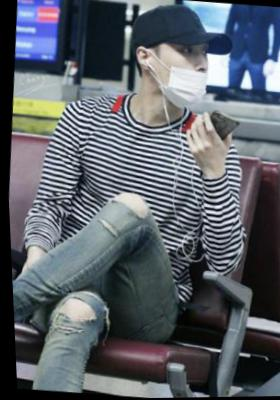WRONG: (155, 36, 214, 109)
